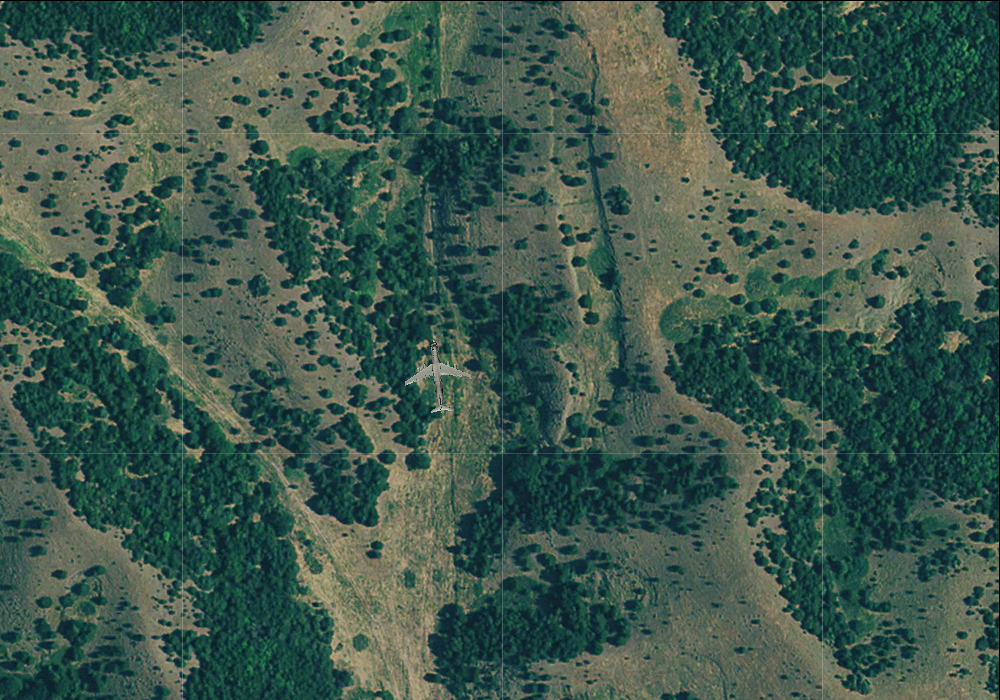plane: (400, 336, 475, 417)
